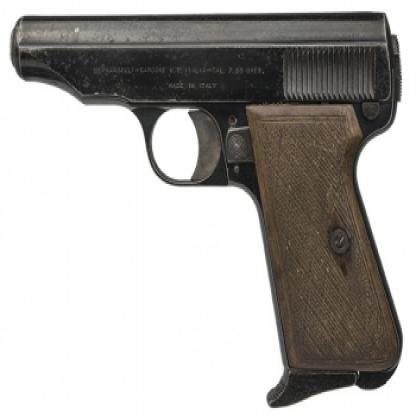Guns: (7, 8, 403, 414)
